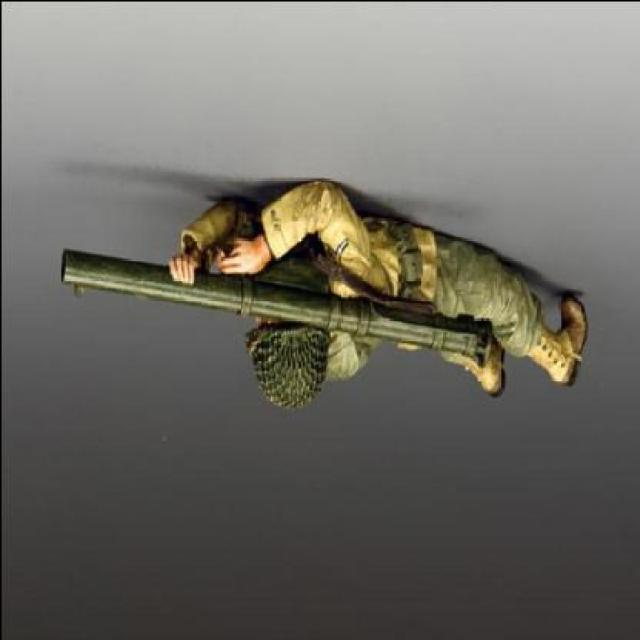weapon: (165, 179, 590, 399), (59, 245, 507, 394)
